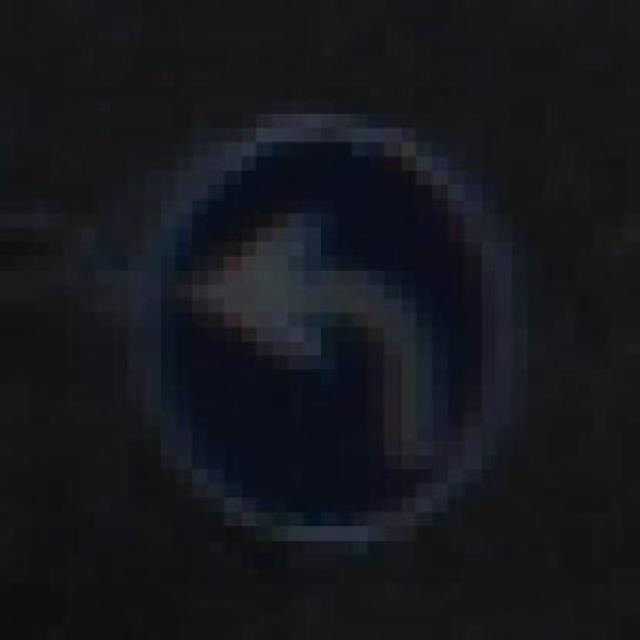Turn left ahead: (96, 85, 544, 569)
